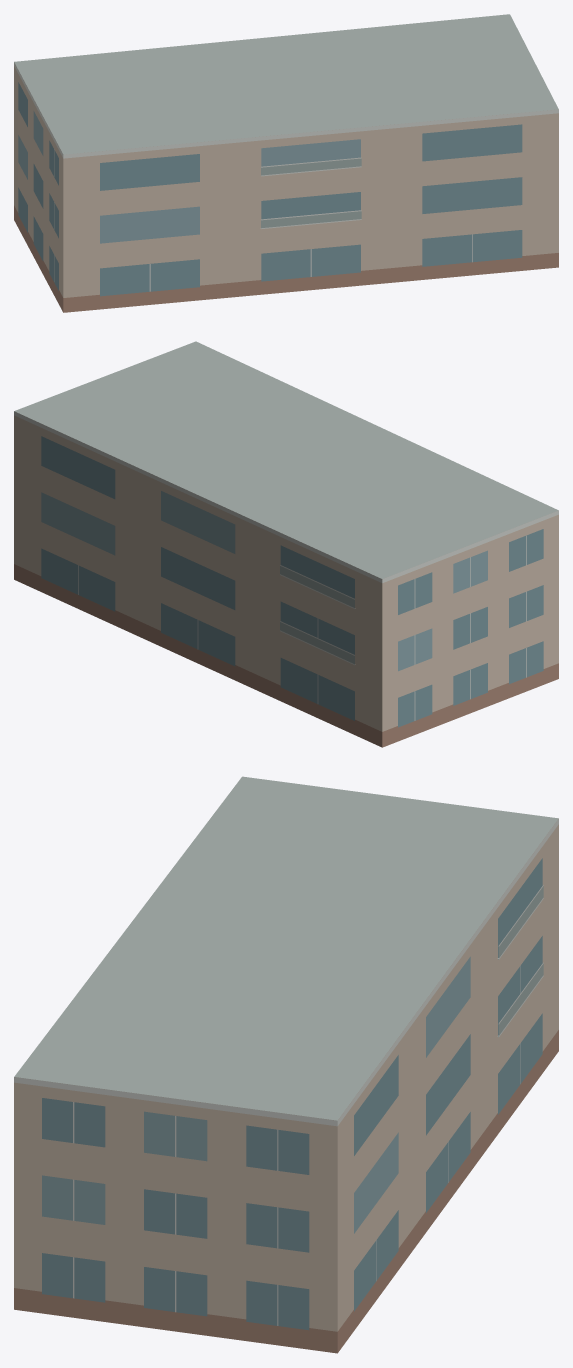
Rendered from survey-upis-32856494.glb.
3 renders of one model, top to bottom at view 1: azimuth 30°, elevation 25°; view 2: azimuth 150°, elevation 25°; view 3: azimuth 270°, elevation 25°, orthographic. The views are drawn at different scales.
Visible parts, largest first — view 1: survey-upis-32856494.tmp; view 2: survey-upis-32856494.tmp; view 3: survey-upis-32856494.tmp.
Boxes of the visible parts, x1,y1,x2,y2 form: survey-upis-32856494.tmp: (14,14,558,312); survey-upis-32856494.tmp: (14,341,558,747); survey-upis-32856494.tmp: (14,776,558,1353).
Bounding box in the file's own units: 31.39 × 9.9 × 21.01.
